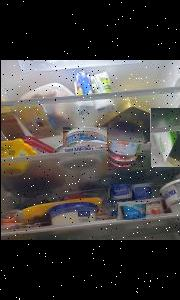Leche: (150, 108, 180, 167)
Yogur: (117, 202, 145, 220), (109, 184, 131, 201)
